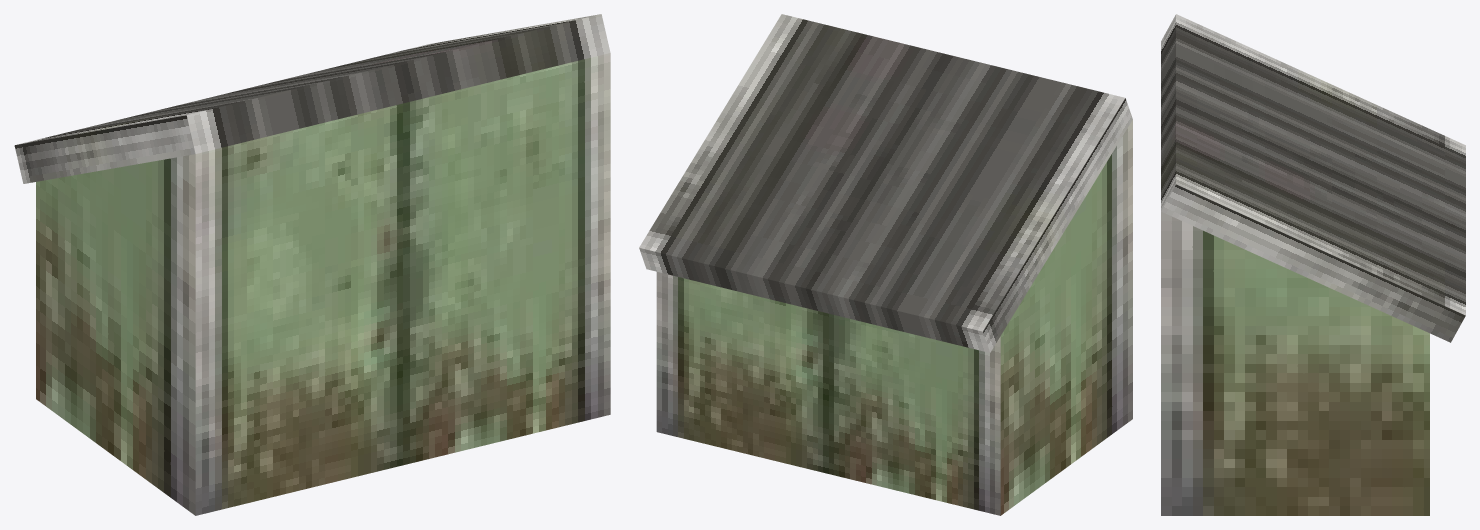
Rendered from kenney-retro-urban-detail-dumpster-closed.glb.
The picture shows the model from 3 angles, left to right: view 1: azimuth 30°, elevation 25°; view 2: azimuth 150°, elevation 25°; view 3: azimuth 270°, elevation 25°; orthographic projection. The views are drawn at different scales.
Visible parts, largest first — view 1: detail-dumpster-closed; view 2: detail-dumpster-closed; view 3: detail-dumpster-closed.
Part boxes in pixels (<box>): detail-dumpster-closed: <box>14,14,610,515</box>; detail-dumpster-closed: <box>639,14,1132,515</box>; detail-dumpster-closed: <box>1161,14,1465,515</box>.
Bounding box in the file's own units: 0.6 × 0.5447 × 0.4537.
3 materials, 3 textured.
